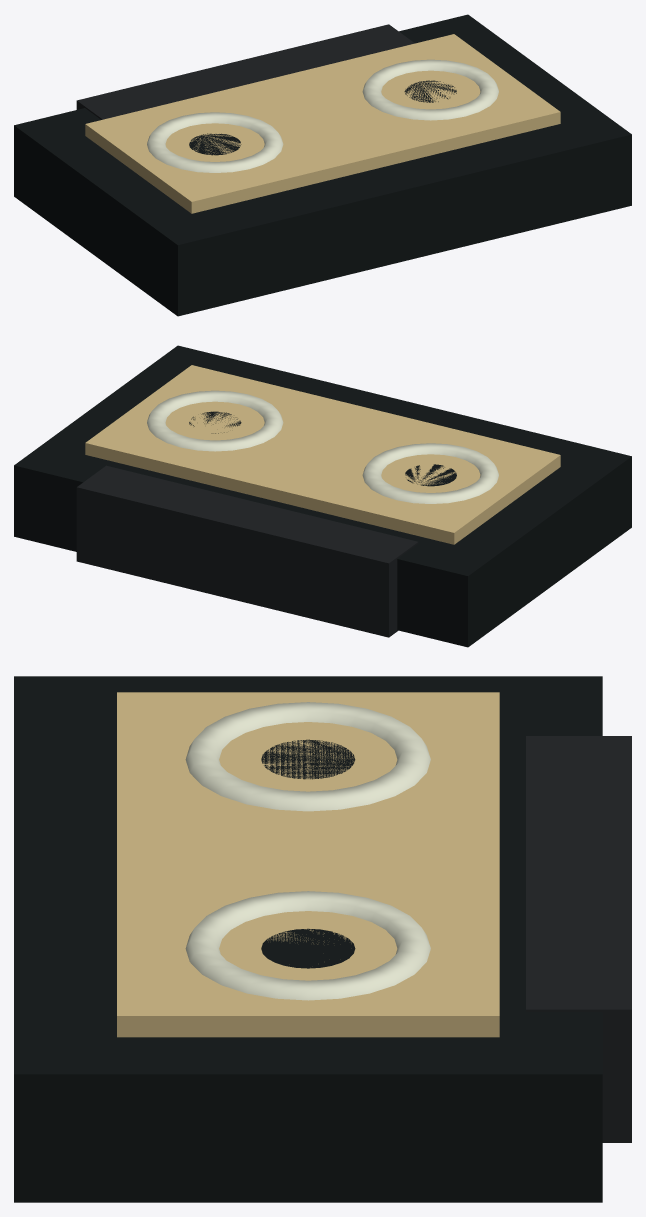
File: AudioTape.obj
3 renders of one model, top to bottom at view 1: azimuth 30°, elevation 25°; view 2: azimuth 150°, elevation 25°; view 3: azimuth 270°, elevation 25°, orthographic. The views are drawn at different scales.
Visible parts, largest first — view 1: AudioTape; view 2: AudioTape; view 3: AudioTape.
Part boxes in pixels (bbox=[...]): AudioTape: bbox=[14, 14, 631, 316]; AudioTape: bbox=[14, 345, 631, 647]; AudioTape: bbox=[14, 676, 631, 1202].
Bounding box in the file's own units: 0.16 × 0.03 × 0.105.
